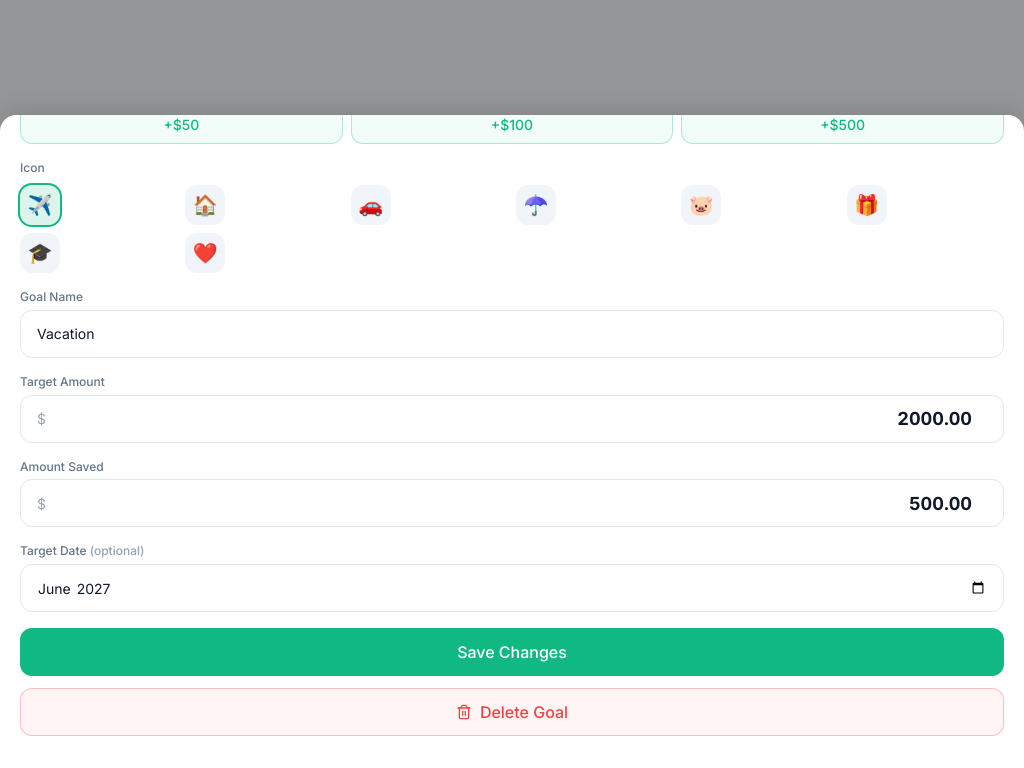
Test: EditGoalSheet › shows update error when save fails
(page scrolled)
Click the button with test id "save-goal-btn": click(512, 652) x1=20 y1=628 x2=1004 y2=676
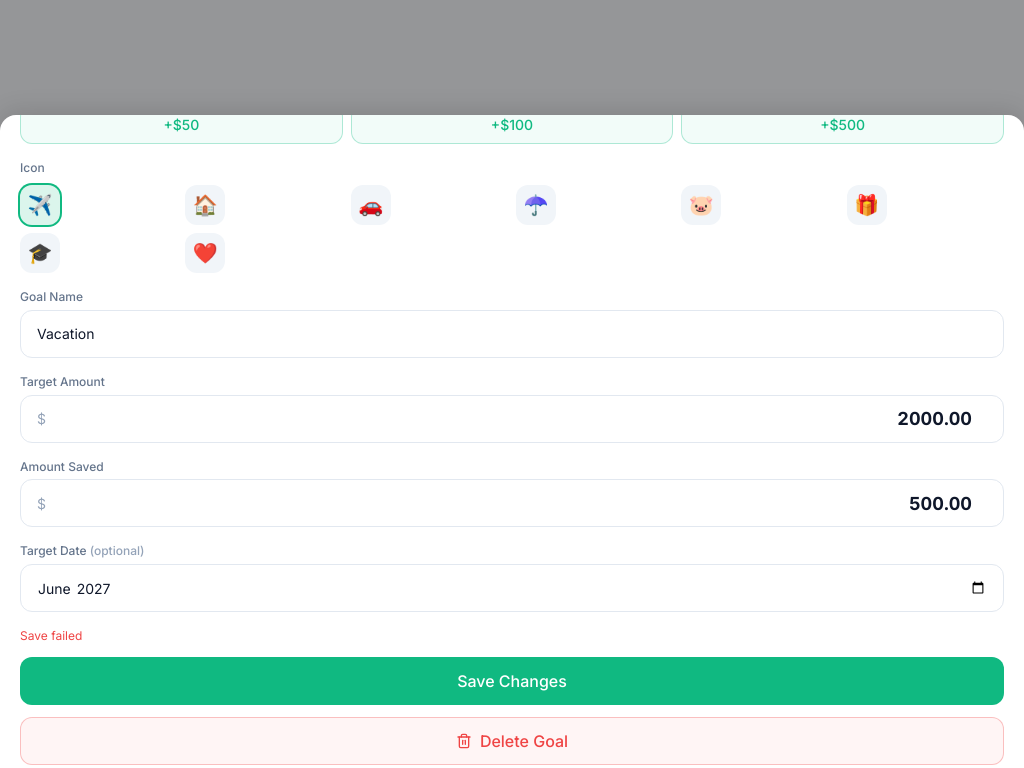
Check: the text "Save failed" is shown, box x1=20 y1=628 x2=82 y2=643
